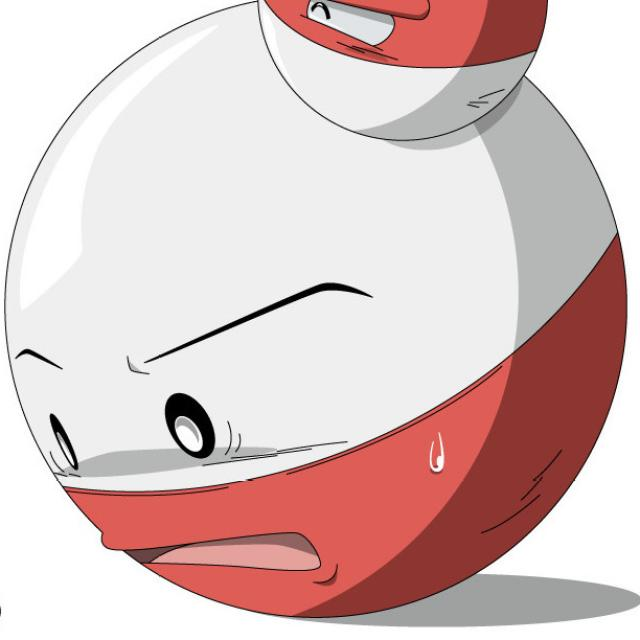Electrode: (0, 72, 635, 622)
